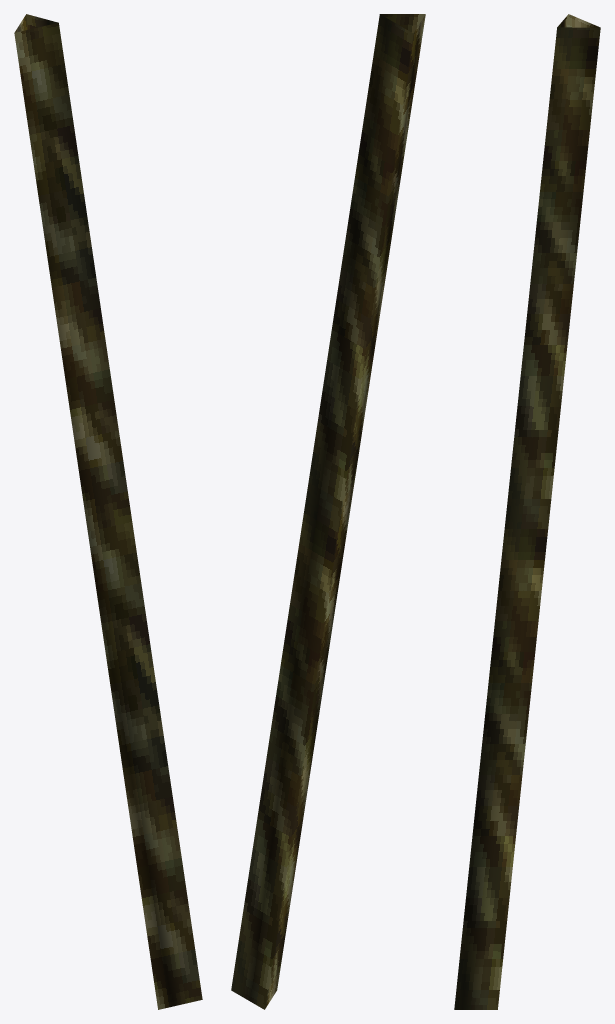
File: OVERHILL_A_01_ROPE_LINE_18.fbx
3 views of the same model, side by side, from view 1: azimuth 30°, elevation 25°; view 2: azimuth 210°, elevation 25°; view 3: azimuth 270°, elevation 25° (orthographic). The views are drawn at different scales.
Parts seen in each view (by area): view 1: OVERHILL_A_01_ROPE_LINE_18; view 2: OVERHILL_A_01_ROPE_LINE_18; view 3: OVERHILL_A_01_ROPE_LINE_18.
Part boxes in pixels (<box>): OVERHILL_A_01_ROPE_LINE_18: <box>14,14,202,1009</box>; OVERHILL_A_01_ROPE_LINE_18: <box>231,14,425,1009</box>; OVERHILL_A_01_ROPE_LINE_18: <box>454,14,600,1009</box>.
Bounding box in the file's own units: 1525 × 10845 × 1525.
Materials: 1 (1 with a texture image).
